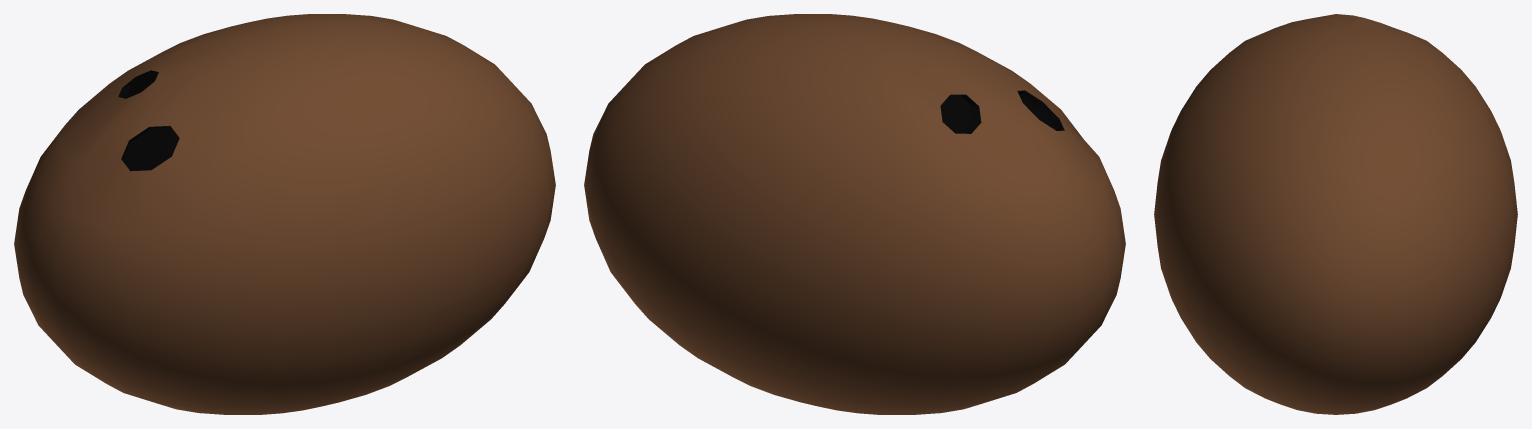
The model's file is coquito.fbx.
The picture shows the model from 3 angles, left to right: view 1: azimuth 30°, elevation 25°; view 2: azimuth 150°, elevation 25°; view 3: azimuth 270°, elevation 25°; orthographic projection. The views are drawn at different scales.
Parts seen in each view (by area): view 1: Sphere; view 2: Sphere; view 3: Sphere.
Boxes of the visible parts, x1,y1,x2,y2 form: Sphere: (14,14,555,414); Sphere: (584,14,1125,414); Sphere: (1154,14,1517,414).
Size of the model in its own units: 246 by 166 by 166.
